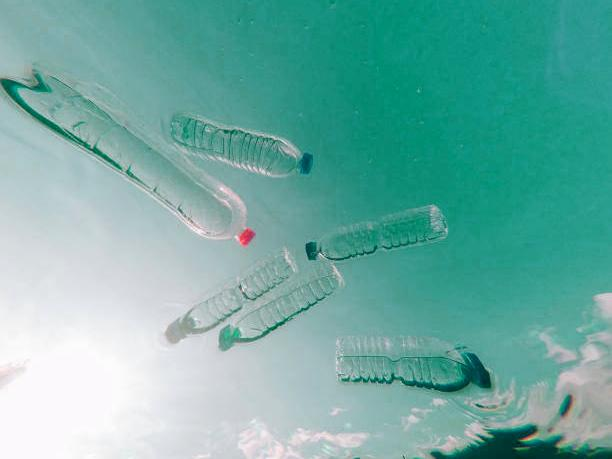Plastic: (25, 61, 262, 250), (164, 253, 349, 346), (306, 191, 459, 265), (326, 335, 495, 390), (176, 113, 318, 178)
